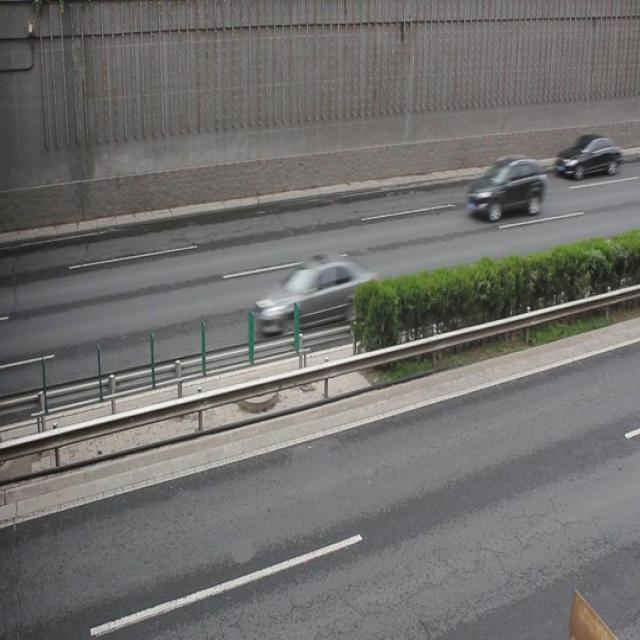car: (255, 254, 378, 332), (468, 153, 544, 220), (552, 134, 618, 177)
